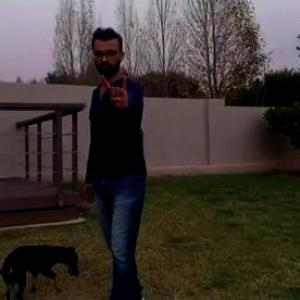takeoff-hand: (100, 63, 134, 114)
